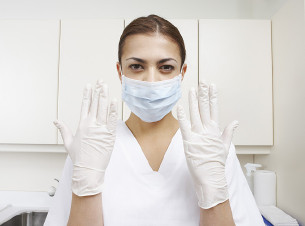face_mask: (118, 40, 181, 122)
